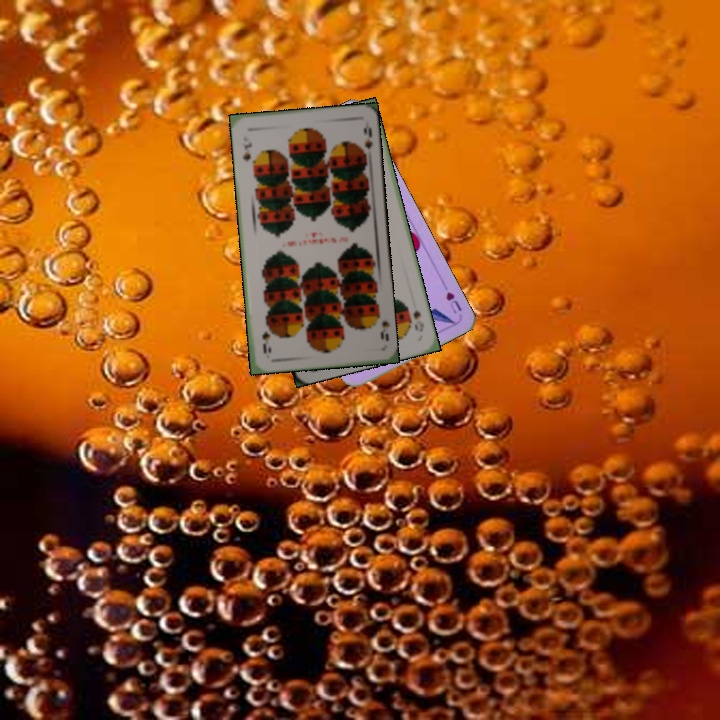HU: (442, 287, 464, 316)
S9: (371, 307, 391, 344), (239, 138, 254, 164)
SO: (409, 306, 426, 334)
